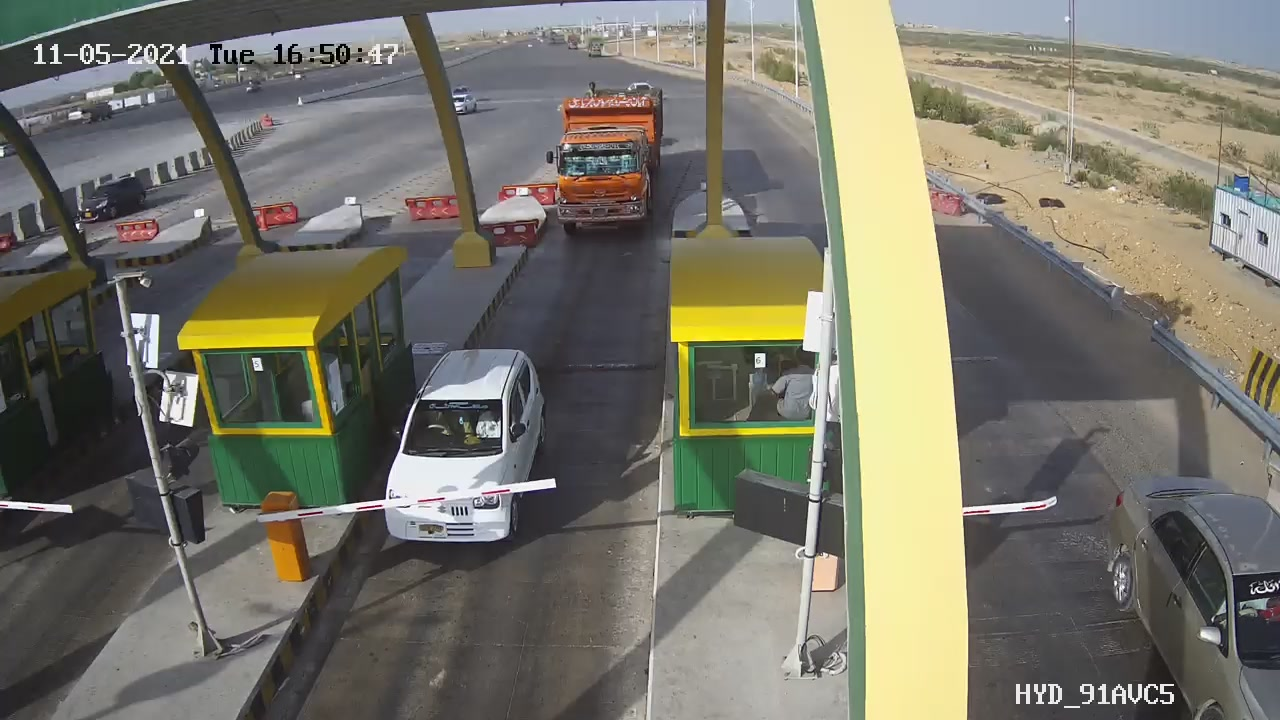F1: (355, 327, 568, 567)
